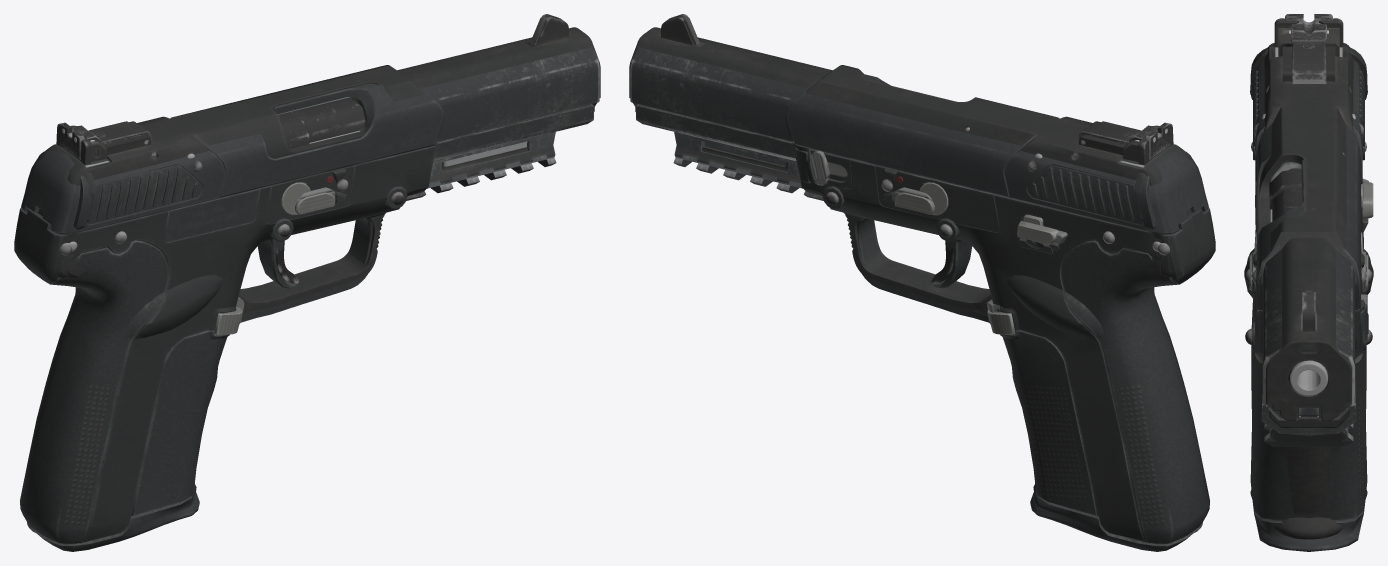
File: weapon_fiveseven.glb
3 renders of one model, left to right at view 1: azimuth 30°, elevation 25°; view 2: azimuth 150°, elevation 25°; view 3: azimuth 270°, elevation 25°, orthographic. The views are drawn at different scales.
Visible parts, largest first — view 1: weapons/models/fiveseven/weapon_pist_fiveseven.vmdl_c.body_l, weapons/models/fiveseven/weapon_pist_fiveseven.vmdl_c.body_h; view 2: weapons/models/fiveseven/weapon_pist_fiveseven.vmdl_c.body_l, weapons/models/fiveseven/weapon_pist_fiveseven.vmdl_c.body_h; view 3: weapons/models/fiveseven/weapon_pist_fiveseven.vmdl_c.body_h, weapons/models/fiveseven/weapon_pist_fiveseven.vmdl_c.body_l.
Part boxes in pixels (box(x1,y1,x2,y2)): weapons/models/fiveseven/weapon_pist_fiveseven.vmdl_c.body_l: box(14, 16, 599, 551); weapons/models/fiveseven/weapon_pist_fiveseven.vmdl_c.body_h: box(37, 14, 600, 495); weapons/models/fiveseven/weapon_pist_fiveseven.vmdl_c.body_l: box(630, 16, 1215, 551); weapons/models/fiveseven/weapon_pist_fiveseven.vmdl_c.body_h: box(629, 14, 1192, 495); weapons/models/fiveseven/weapon_pist_fiveseven.vmdl_c.body_h: box(1250, 18, 1368, 539); weapons/models/fiveseven/weapon_pist_fiveseven.vmdl_c.body_l: box(1244, 14, 1373, 551).
Bounding box in the file's own units: 8.09 × 5.62 × 1.38.
Materials: 2 (2 with a texture image).
